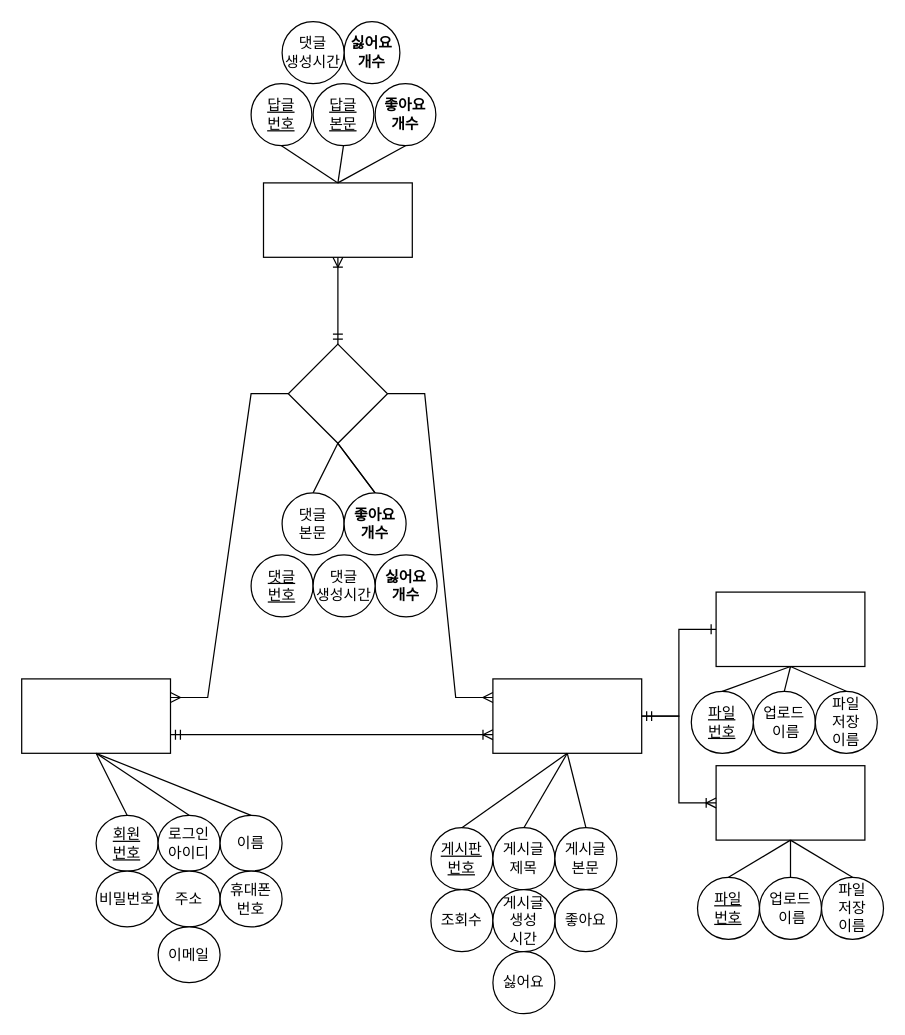
Image size: 905x1035. Some labels were removed from this diagram. The centre of each missing label's shape, as x and y in pixels:
"게시판" belongs at (567,715).
"대댓글" belongs at (337,219).
"댓글" belongs at (337,393).
"이미지파일" belongs at (790,802).
"첨부파일" belongs at (790,628).
"회원" belongs at (95,715).
